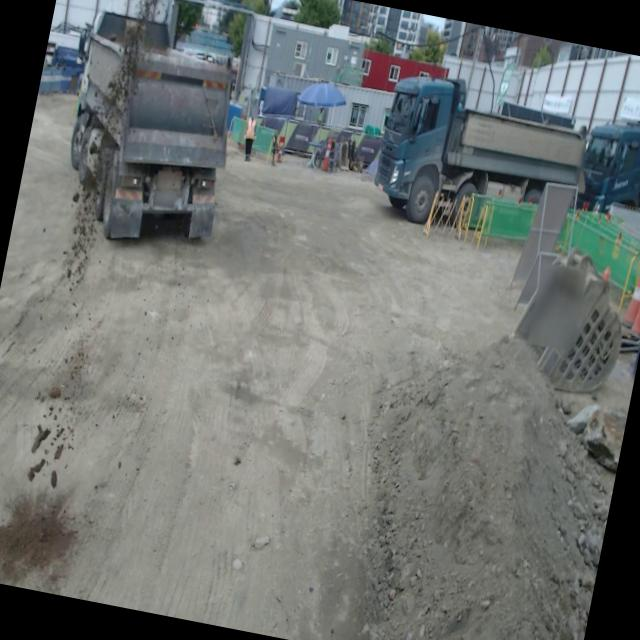red-sand: (0, 97, 575, 640)
rocks: (562, 449, 613, 640)
stone: (574, 405, 628, 472)
